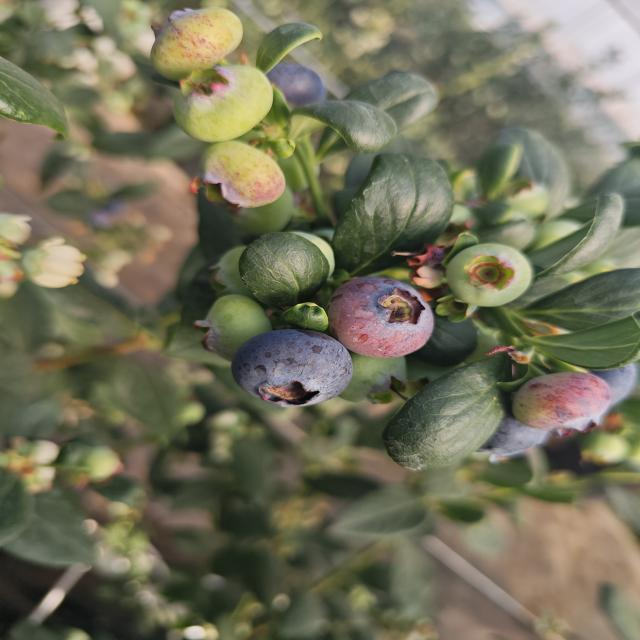ripe: (228, 327, 356, 410), (324, 275, 437, 360), (242, 55, 334, 121), (463, 405, 551, 468), (578, 351, 640, 407)
